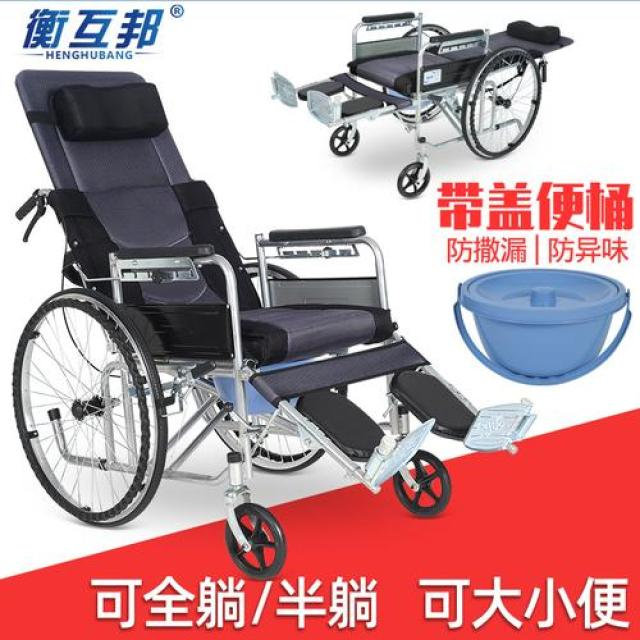wheelchairs: (0, 61, 539, 582)
